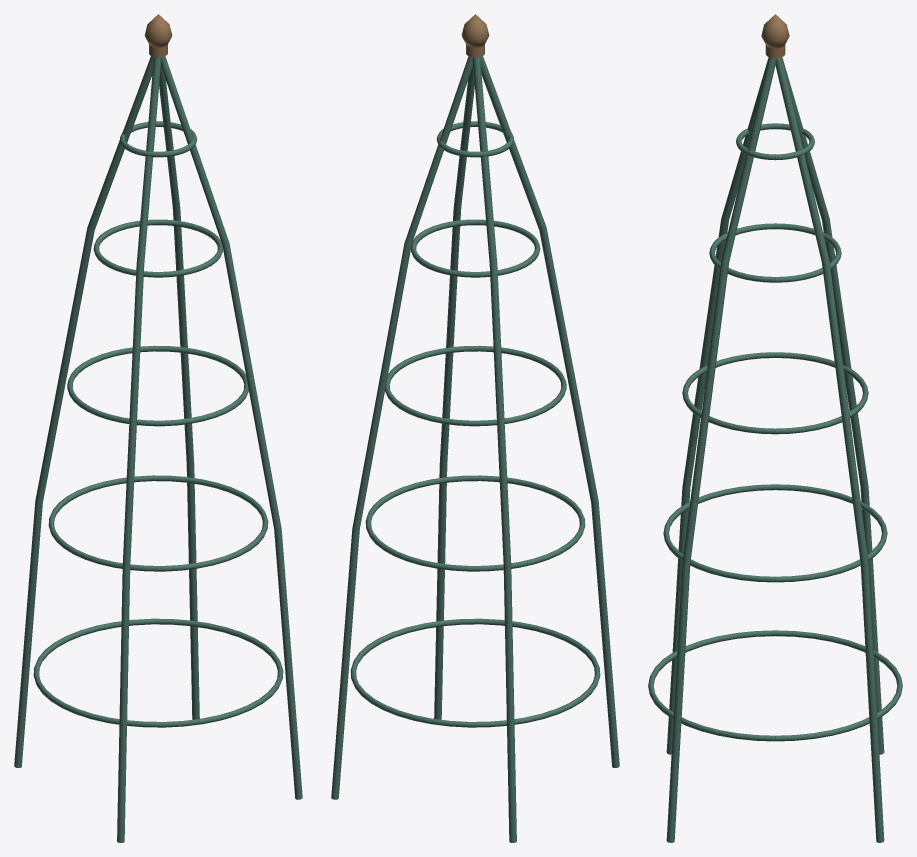
File: outdoor-garden-obelisk.glb
The picture shows the model from 3 angles, left to right: view 1: azimuth 30°, elevation 25°; view 2: azimuth 150°, elevation 25°; view 3: azimuth 270°, elevation 25°; orthographic projection.
Parts seen in each view (by area): view 1: outdoor-garden-obelisk authored assembly; view 2: outdoor-garden-obelisk authored assembly; view 3: outdoor-garden-obelisk authored assembly.
Part boxes in pixels (<box>): outdoor-garden-obelisk authored assembly: <box>14,14,302,842</box>; outdoor-garden-obelisk authored assembly: <box>331,14,619,842</box>; outdoor-garden-obelisk authored assembly: <box>648,14,902,842</box>.
Bounding box in the file's own units: 0.56 × 1.9 × 0.56.
